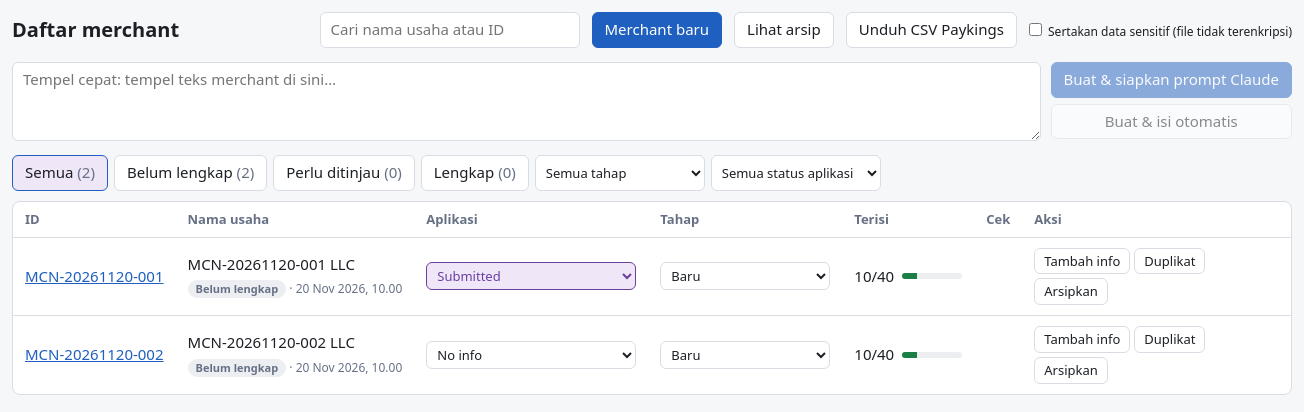
Test case: Status aplikasi › changes in place and filters
Step 1. Select "Approved" in the dropdown named "Status aplikasi MCN-20261120-002" → (531, 355), box [426,341,636,369]
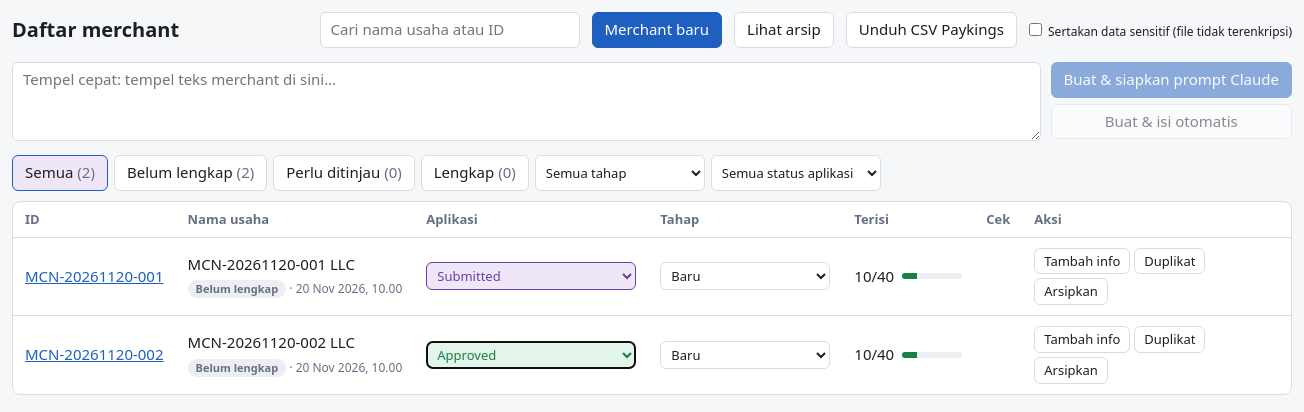
Step 2. Select "Submitted (1)" in the dropdown named "Filter status aplikasi" → (796, 173), box [711,155,881,191]
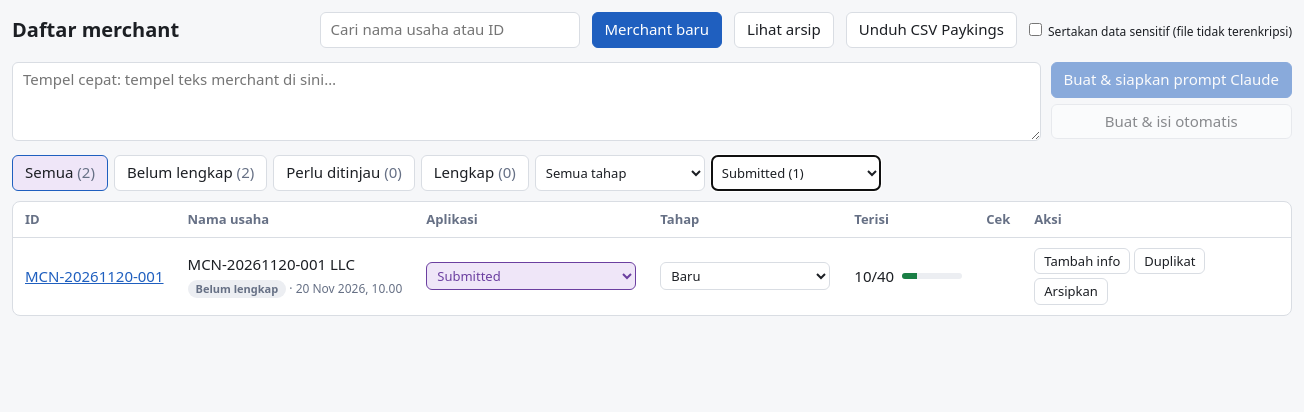
Expected: the text "MCN-20261120-001 LLC" is shown, [188,254,355,274]
Result: the text "MCN-20261120-002 LLC" is gone
